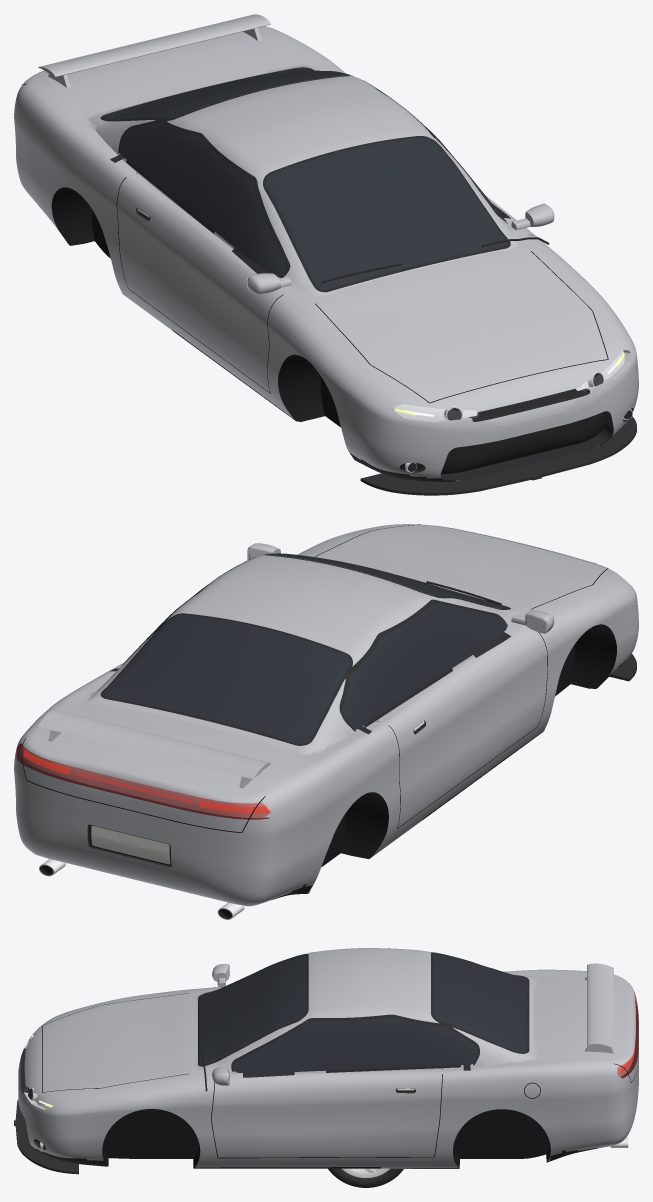
File: umbra.glb
3 views of the same model, one above another, from view 1: azimuth 30°, elevation 25°; view 2: azimuth 150°, elevation 25°; view 3: azimuth 270°, elevation 25° (orthographic). The views are drawn at different scales.
Parts seen in each view (by area): view 1: Body; view 2: Body; view 3: Body, WheelF.
Part boxes in pixels (x1=…): Body: x1=14, y1=14, x2=638, y2=495; Body: x1=14, y1=524, x2=638, y2=919; Body: x1=14, y1=948, x2=638, y2=1174; WheelF: x1=328, y1=1168, x2=403, y2=1187.
Bounding box in the file's own units: 1.96 × 1.69 × 4.59.
